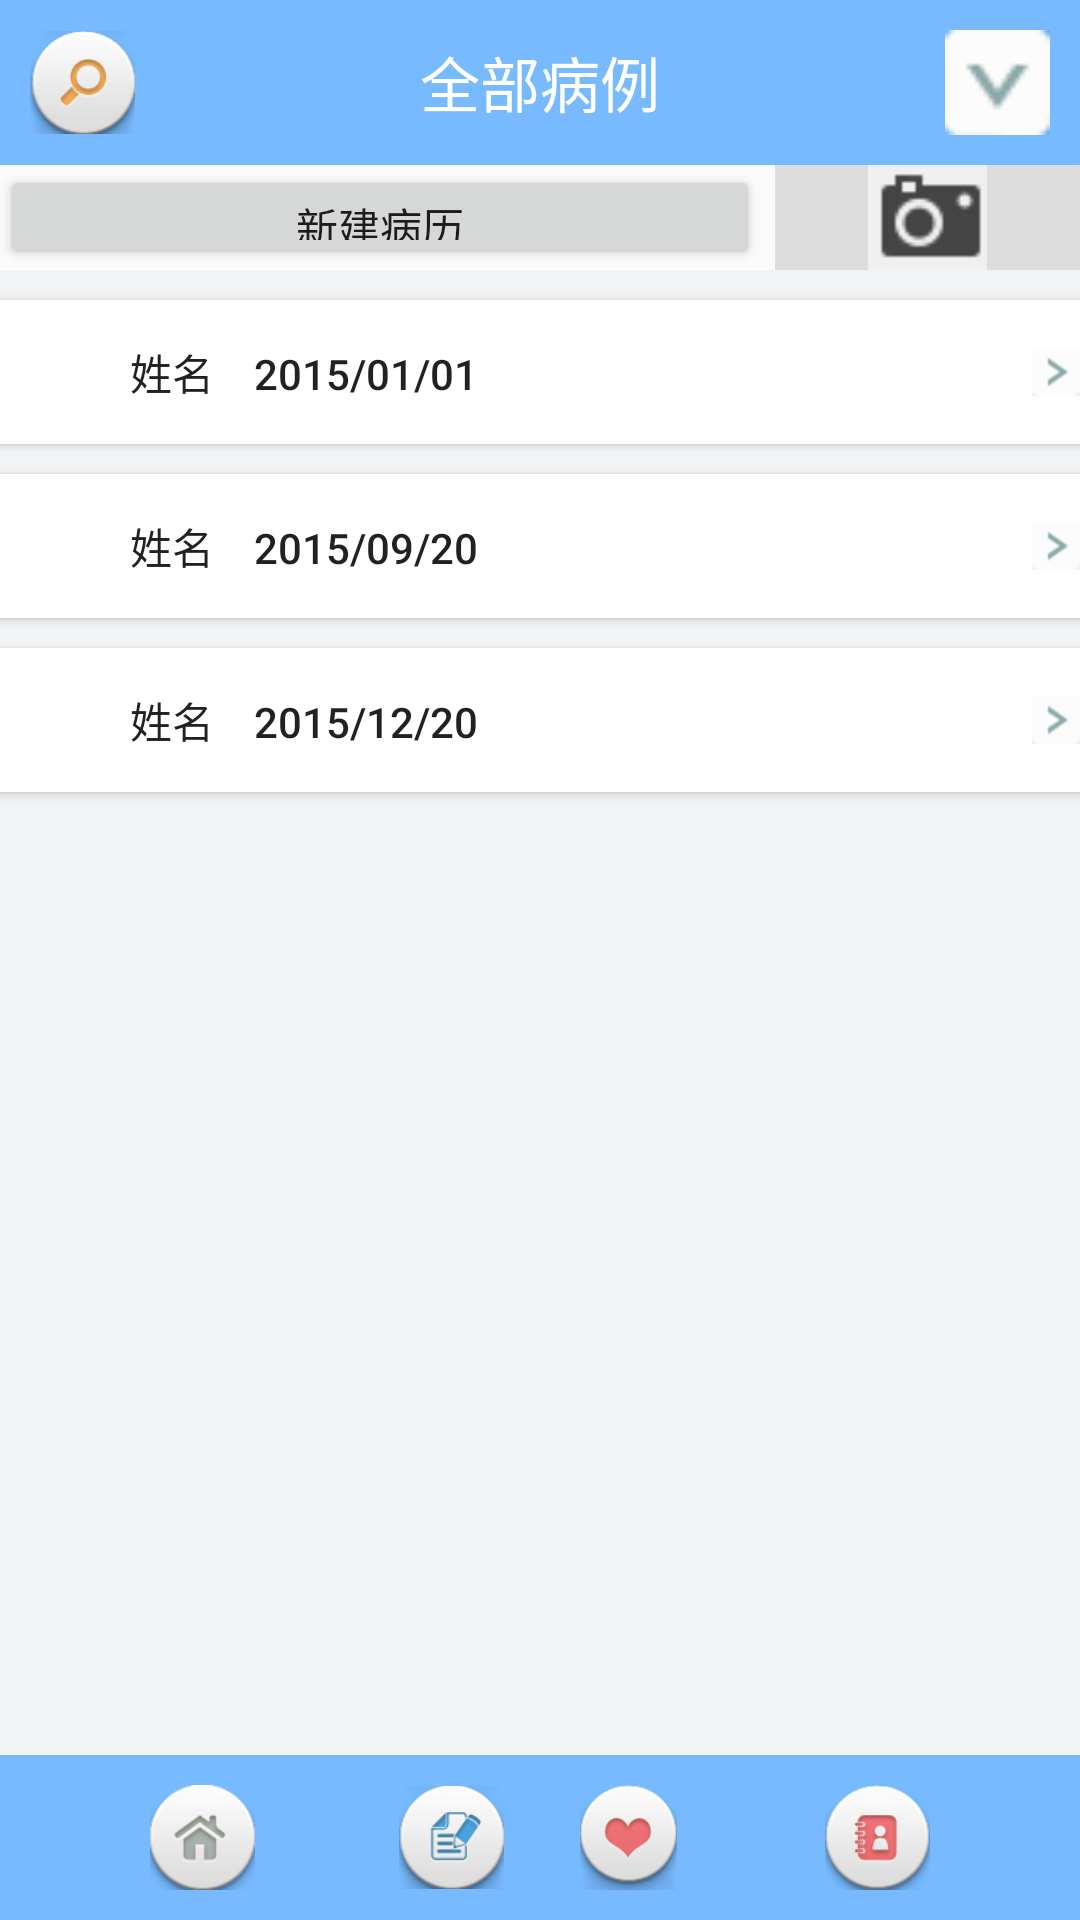

Screen size 1080 × 1920. Icon name, then its box in pixels as (x1, y1, x2, y2):
caseinfo: (399, 1786, 504, 1889)
heart: (580, 1785, 677, 1890)
home: (150, 1785, 255, 1890)
search: (30, 31, 135, 134)
xia: (945, 30, 1050, 135)
